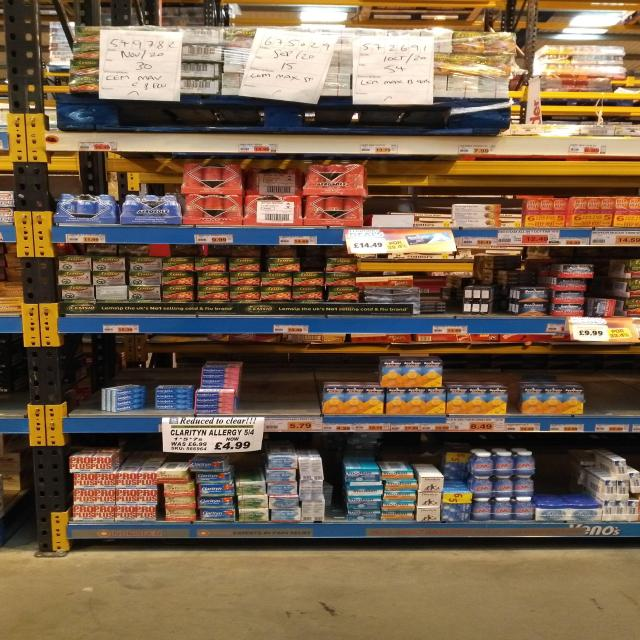empty_space: (253, 362, 318, 414), (595, 365, 640, 412)
